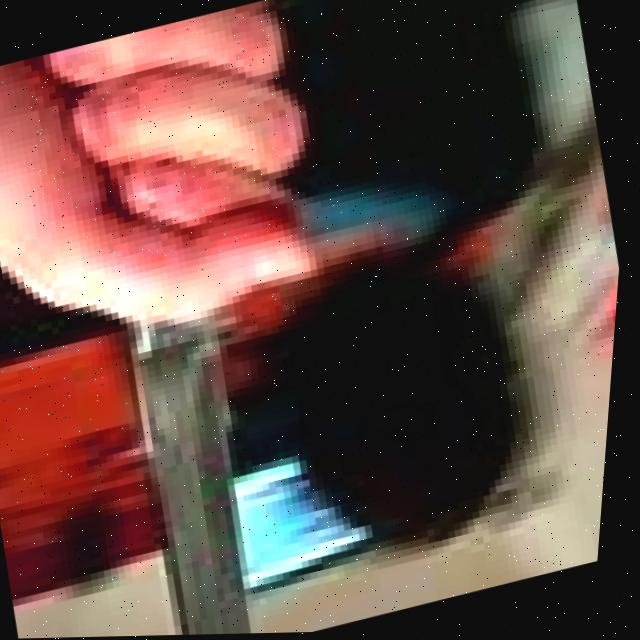knife: (100, 301, 296, 638)
